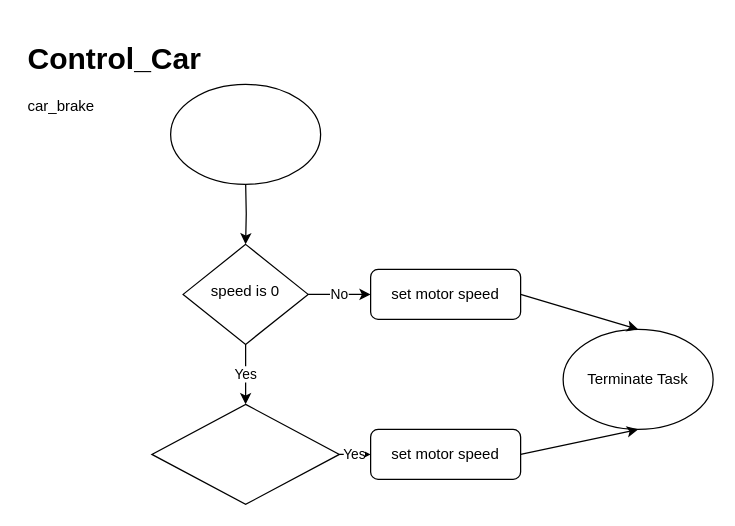
The diagram is 735 pixels wide and 526 high, and some of its shapes have lost their labels. The shapes that lost their labels are listed below. From the top down, each one's centre as x and y in pixels, then its label:
At point 245,133: "Task Start".
At point 245,453: "Set motor speed 0".
